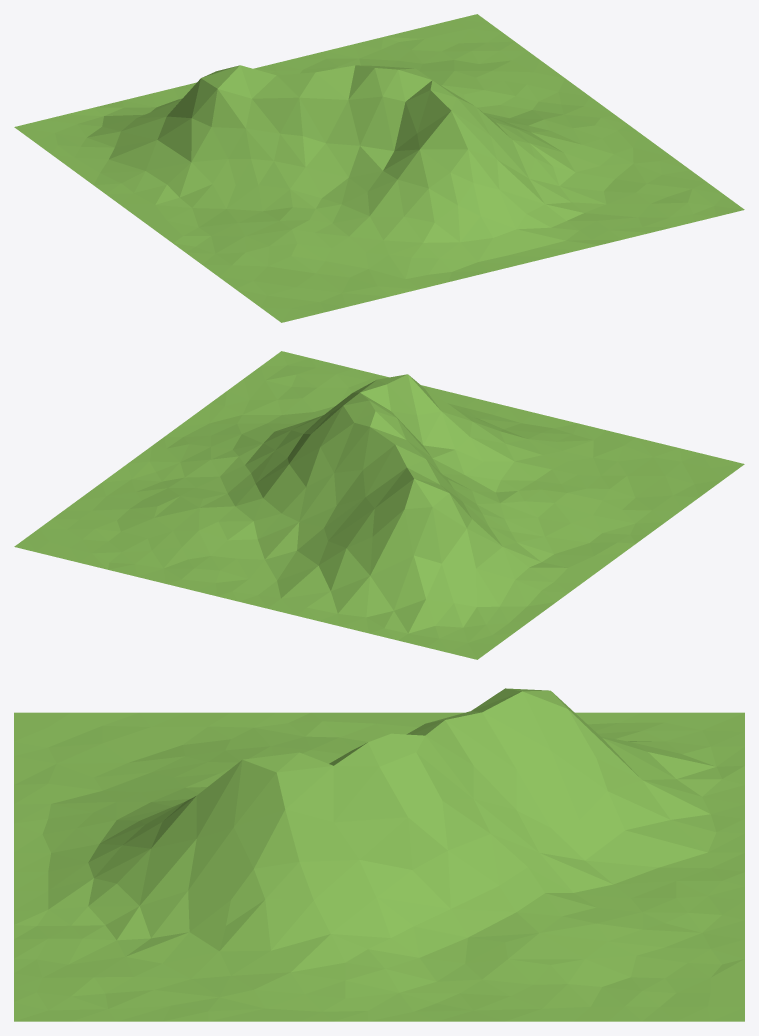
Rendered from MT_Terrain_M_a_21.fbx.
3 renders of one model, top to bottom at view 1: azimuth 30°, elevation 25°; view 2: azimuth 150°, elevation 25°; view 3: azimuth 270°, elevation 25°, orthographic. The views are drawn at different scales.
Visible parts, largest first — view 1: MT_Terrain_M_a_21; view 2: MT_Terrain_M_a_21; view 3: MT_Terrain_M_a_21.
Part boxes in pixels (<box>): MT_Terrain_M_a_21: <box>14,14,744,322</box>; MT_Terrain_M_a_21: <box>14,351,744,659</box>; MT_Terrain_M_a_21: <box>14,688,744,1021</box>.
Bounding box in the file's own units: 5000 × 1023 × 5000.
